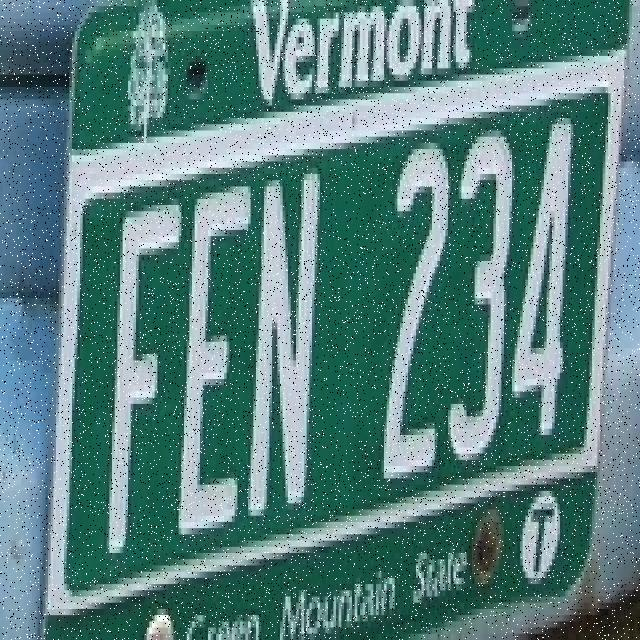licenseplate: (41, 0, 632, 640)
